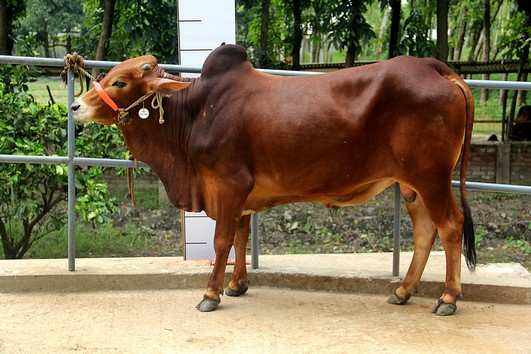cow: (66, 36, 481, 325)
